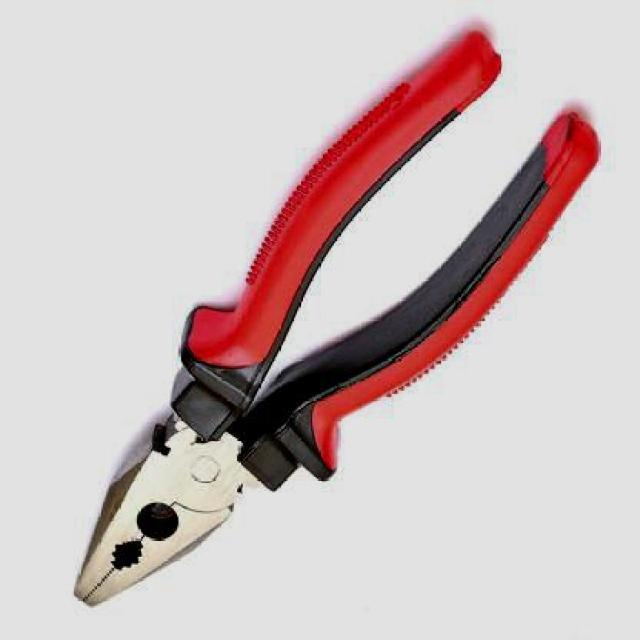pliers: (72, 32, 610, 606)
